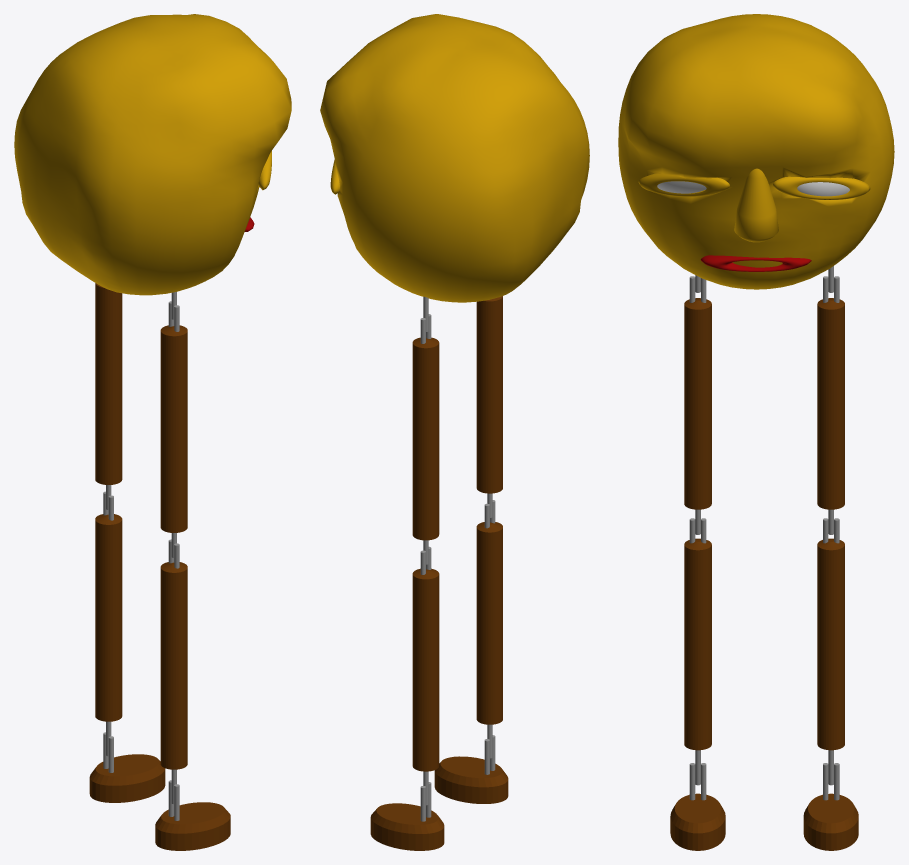
The model's file is figure.glb.
3 views of the same model, side by side, from view 1: azimuth 30°, elevation 25°; view 2: azimuth 150°, elevation 25°; view 3: azimuth 270°, elevation 25° (orthographic). The views are drawn at different scales.
Visible parts, largest first — view 1: Joined figure; view 2: Joined figure; view 3: Joined figure.
Boxes of the visible parts, x1,y1,x2,y2 form: Joined figure: (14,14,291,850); Joined figure: (320,14,589,850); Joined figure: (618,14,894,850).
Bounding box in the file's own units: 0.4598 × 1.6 × 0.5004.
